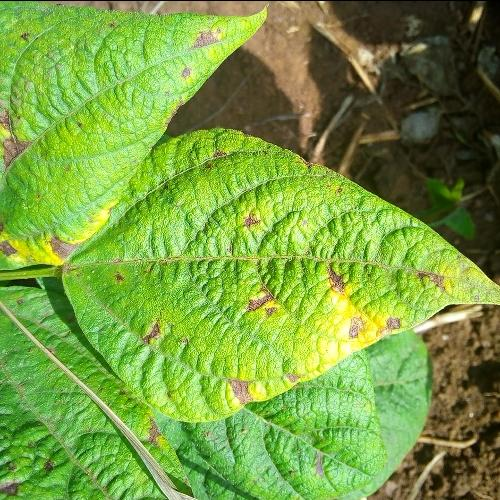mozaik: (224, 157, 462, 437)
